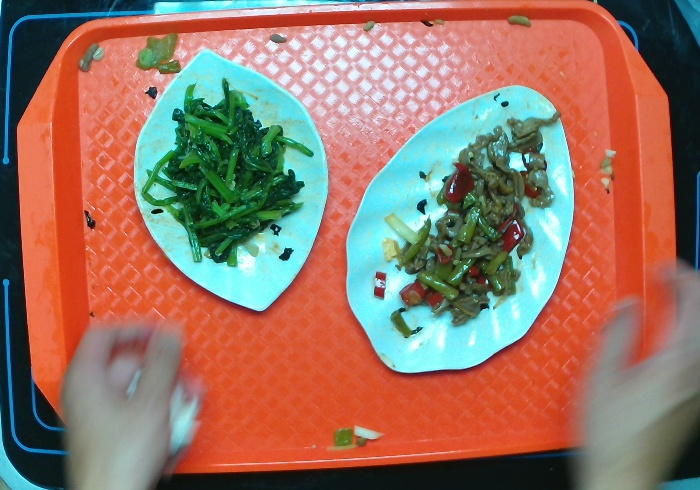RJxy-Bai_Ye_Pan: (343, 80, 581, 380)
RJxy-Da_Du_Pan: (127, 46, 336, 323)
